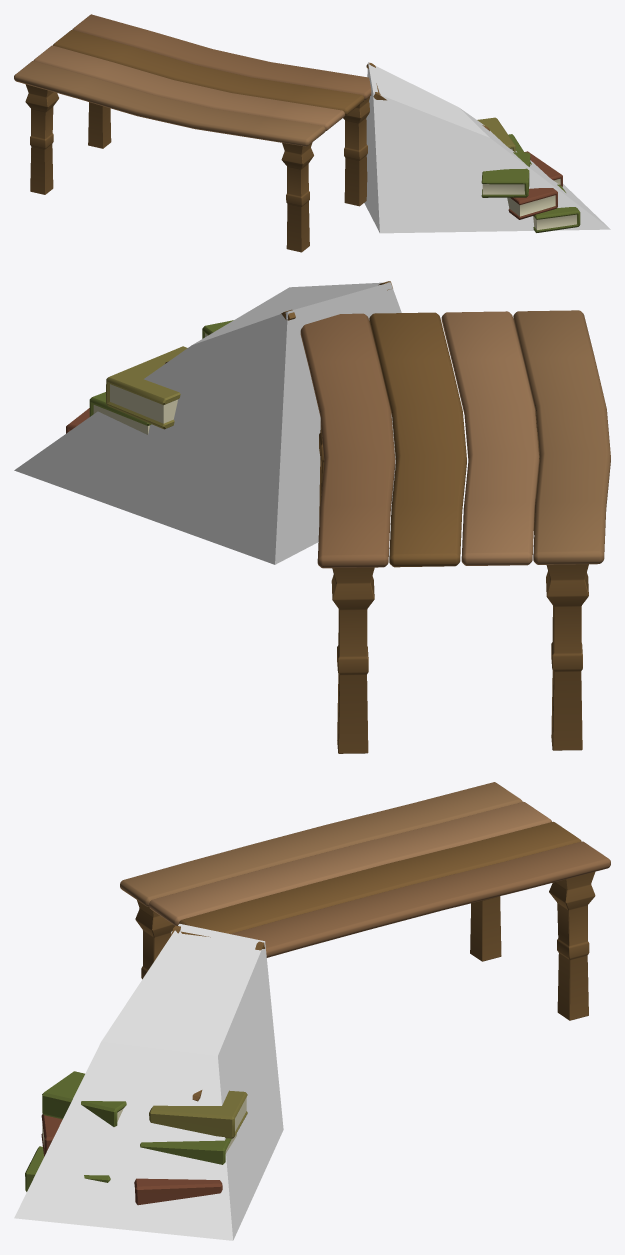
The model's file is lc rampe.fbx.
3 views of the same model, one above another, from view 1: azimuth 30°, elevation 25°; view 2: azimuth 150°, elevation 25°; view 3: azimuth 270°, elevation 25° (orthographic). The views are drawn at different scales.
Visible parts, largest first — view 1: Cube.005, rampe lc, brique tour.011; view 2: Cube.005, rampe lc, brique tour.011; view 3: Cube.005, rampe lc, brique tour.011.
Boxes of the visible parts, x1,y1,x2,y2 form: Cube.005: (14, 14, 371, 252); rampe lc: (364, 62, 610, 233); brique tour.011: (477, 117, 580, 232); Cube.005: (300, 310, 610, 753); rampe lc: (14, 282, 401, 564); brique tour.011: (66, 320, 233, 434); Cube.005: (120, 782, 610, 1020); rampe lc: (14, 923, 283, 1240); brique tour.011: (25, 1071, 247, 1205).
Bounding box in the file's own units: 700 × 217 × 620.
